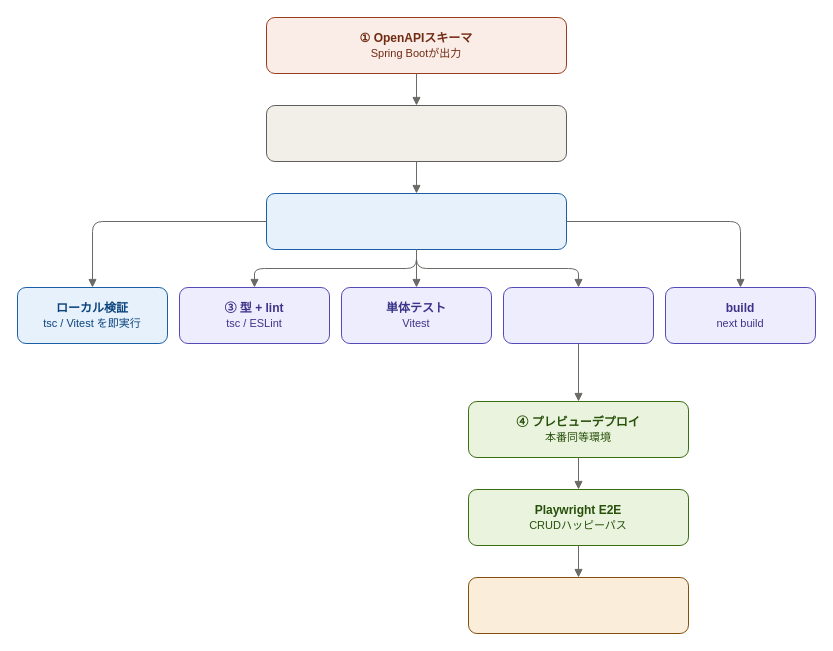
Image size: 833x651. Some labels were removed from this diagram. The centre of each missing label's shape, as x and y in pixels:
drift検出 再生成と一致確認: [578,315]
② AIで実装 + 自己修正ループ AGENTS.md / 型 / lint で拘束: [416,221]
⑤ mainマージで本番デプロイ 全チェック緑が必須: [578,605]
型 / APIクライアント / Zod 自動生成（src/generated）: [416,133]
